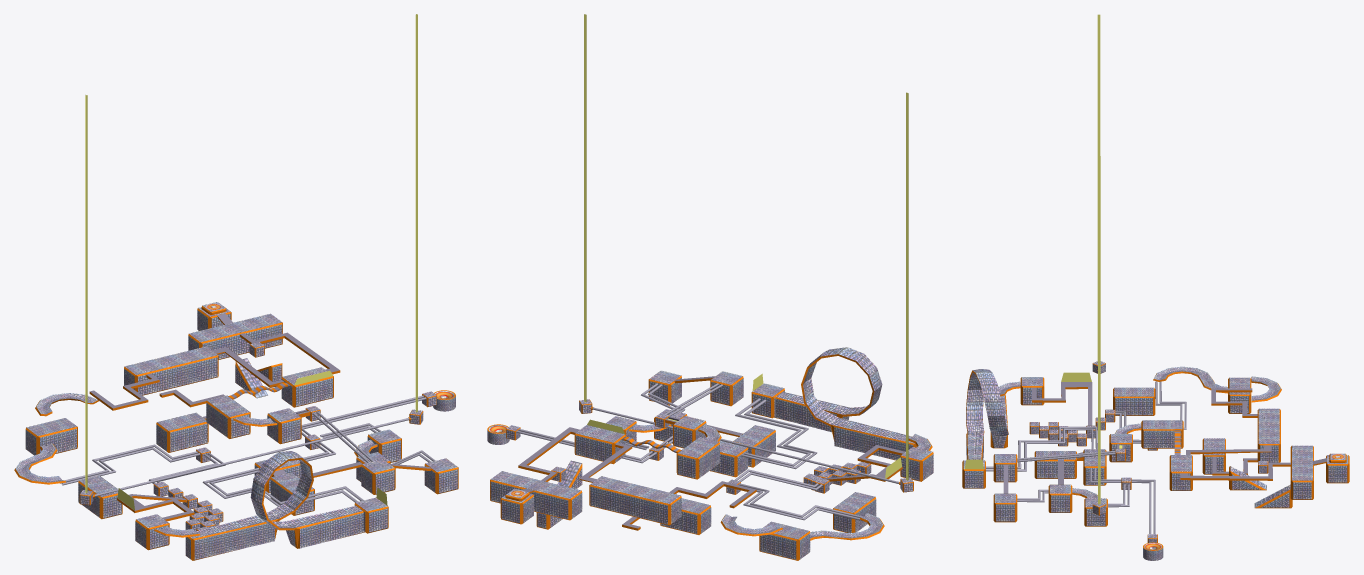
File: Level50.fbx
The picture shows the model from 3 angles, left to right: view 1: azimuth 30°, elevation 25°; view 2: azimuth 150°, elevation 25°; view 3: azimuth 270°, elevation 25°; orthographic projection. The views are drawn at different scales.
Parts seen in each view (by area): view 1: Level50; view 2: Level50; view 3: Level50.
Boxes of the visible parts, box(x1,y1,x2,y2) form: Level50: box(14, 14, 458, 560); Level50: box(487, 14, 933, 560); Level50: box(962, 14, 1349, 560).
Bounding box in the file's own units: 5958 × 5945 × 5445.
14 materials, 8 textured.
